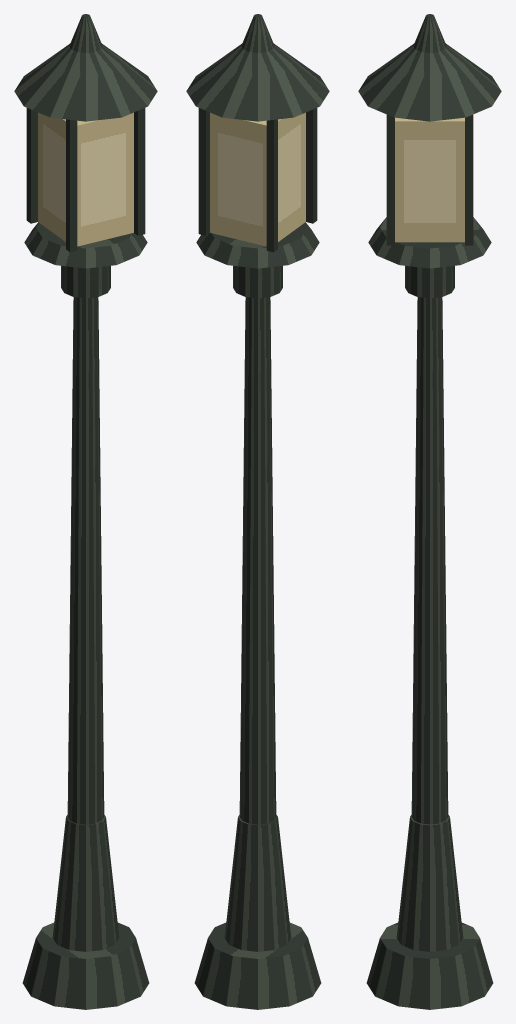
File: street_light.gltf
3 views of the same model, side by side, from view 1: azimuth 30°, elevation 25°; view 2: azimuth 150°, elevation 25°; view 3: azimuth 270°, elevation 25° (orthographic).
Parts seen in each view (by area): view 1: slender_column, warm_glass, lantern_roof, plinth, pedestal, lantern_frame (×3), lantern_foot, collar, finial; view 2: slender_column, warm_glass, lantern_roof, plinth, pedestal, lantern_frame (×3), lantern_foot, collar, finial; view 3: slender_column, warm_glass, lantern_roof, plinth, pedestal, lantern_foot, lantern_frame (×2), collar, finial.
Boxes of the visible parts, x1,y1,x2,y2 form: slender_column: [67, 297, 104, 824]; warm_glass: [38, 112, 133, 246]; lantern_roof: [14, 43, 157, 121]; plinth: [22, 922, 149, 1009]; pedestal: [52, 815, 119, 951]; lantern_frame (×3): [26, 108, 145, 252]; lantern_foot: [24, 222, 147, 268]; collar: [61, 265, 110, 298]; finial: [69, 14, 102, 52]; slender_column: [239, 297, 276, 824]; warm_glass: [210, 112, 305, 246]; lantern_roof: [186, 43, 329, 121]; plinth: [194, 922, 321, 1009]; pedestal: [224, 815, 291, 951]; lantern_frame (×3): [198, 108, 317, 252]; lantern_foot: [196, 222, 319, 268]; collar: [233, 265, 282, 298]; finial: [241, 14, 274, 52]; slender_column: [411, 297, 448, 824]; warm_glass: [395, 117, 464, 242]; lantern_roof: [358, 43, 501, 121]; plinth: [366, 922, 493, 1009]; pedestal: [396, 815, 463, 951]; lantern_foot: [368, 217, 491, 268]; lantern_frame (×2): [386, 114, 473, 245]; collar: [405, 265, 454, 298]; finial: [413, 14, 446, 52].
Bounding box in the file's own units: 0.5375 × 4 × 0.5375.
Materials: 2 (2 with a texture image).
